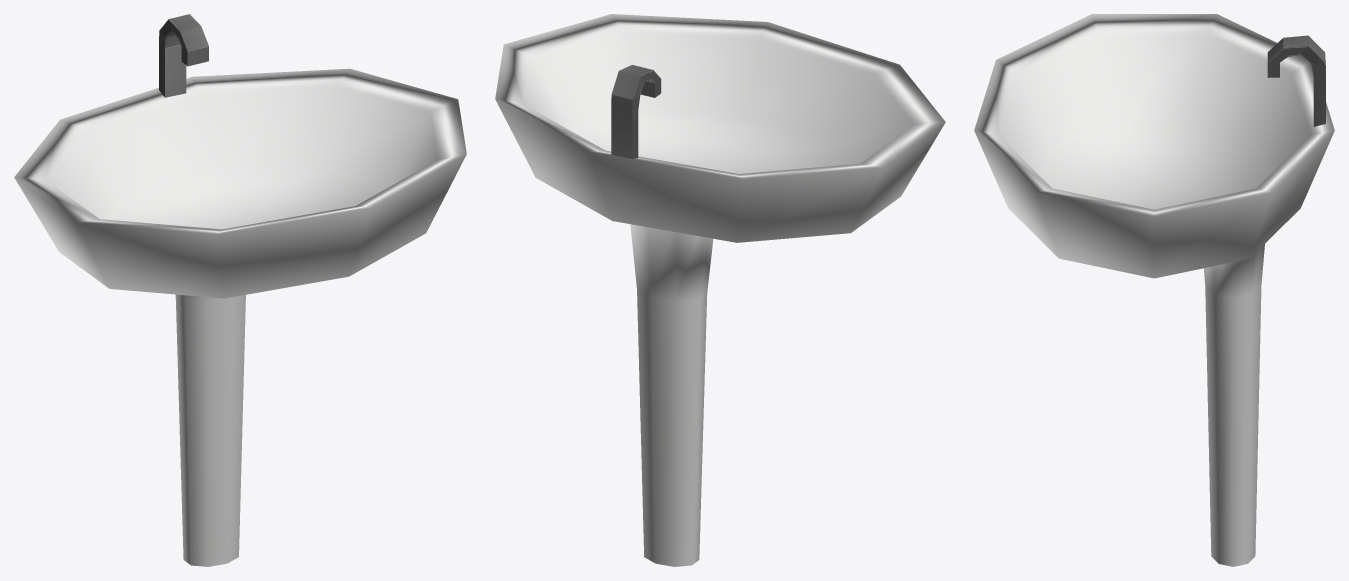
Rendered from BathroomSink.fbx.
3 views of the same model, side by side, from view 1: azimuth 30°, elevation 25°; view 2: azimuth 150°, elevation 25°; view 3: azimuth 270°, elevation 25° (orthographic).
Parts seen in each view (by area): view 1: Sink; view 2: Sink; view 3: Sink.
Boxes of the visible parts, <box> form: Sink: <box>14,14,466,566</box>; Sink: <box>495,14,945,566</box>; Sink: <box>974,14,1334,566</box>.
Bounding box in the file's own units: 61.29 × 72.55 × 45.99.
1 material, 1 textured.
